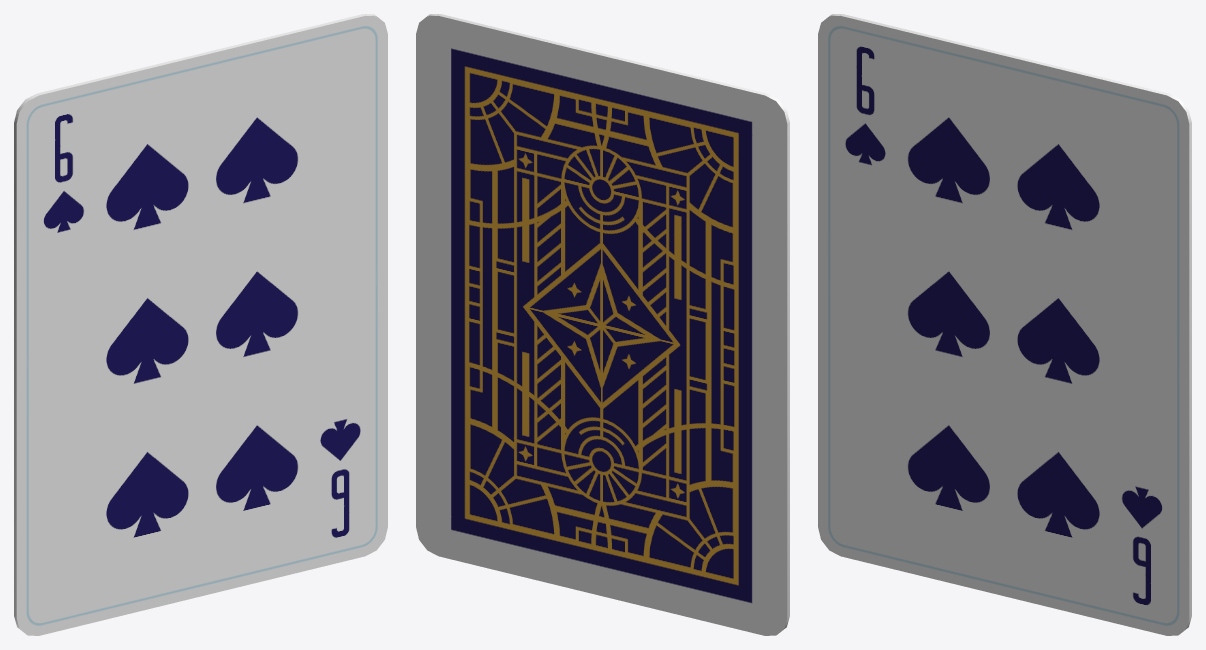
The model's file is card_spades_six.obj.
The picture shows the model from 3 angles, left to right: view 1: azimuth 30°, elevation 25°; view 2: azimuth 150°, elevation 25°; view 3: azimuth 330°, elevation 25°; orthographic projection.
Parts seen in each view (by area): view 1: card_spades_six; view 2: card_spades_six; view 3: card_spades_six.
Boxes of the visible parts, x1,y1,x2,y2 form: card_spades_six: [14, 14, 387, 635]; card_spades_six: [416, 14, 789, 635]; card_spades_six: [818, 14, 1191, 635].
Bounding box in the file's own units: 4.31 × 6 × 0.05.
Materials: 2 (2 with a texture image).
